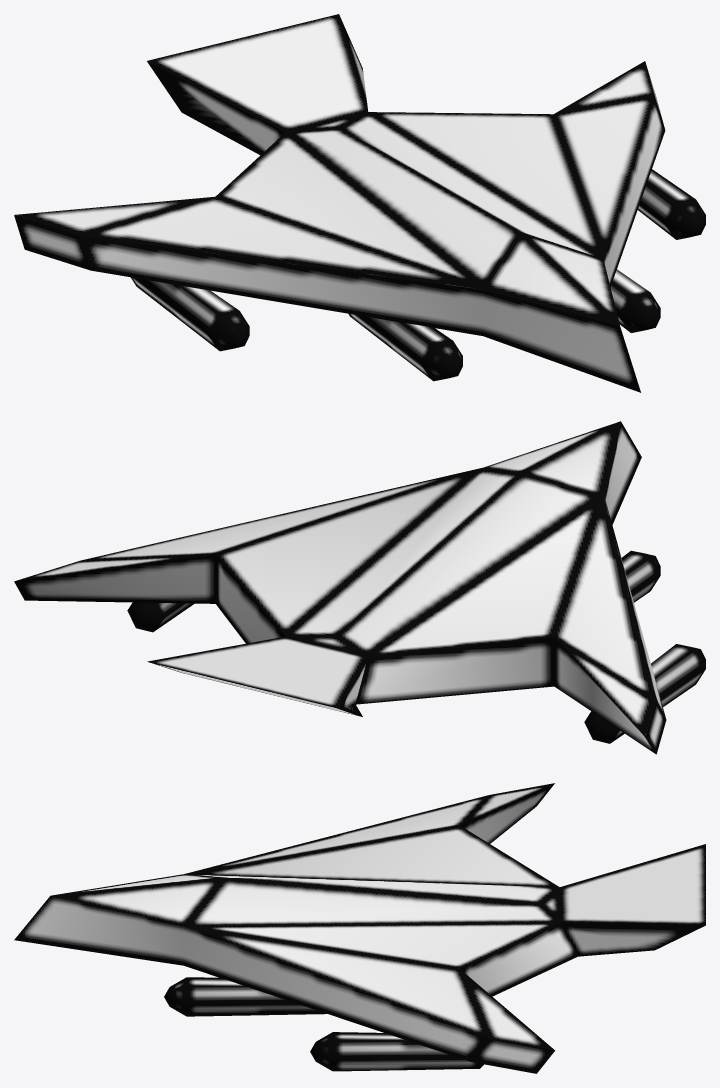
The model's file is Aircraft2.obj.
The picture shows the model from 3 angles, top to bottom: view 1: azimuth 30°, elevation 25°; view 2: azimuth 150°, elevation 25°; view 3: azimuth 270°, elevation 25°; orthographic projection. The views are drawn at different scales.
Visible parts, largest first — view 1: Box18; view 2: Box18; view 3: Box18.
Part boxes in pixels (bbox=[...]): Box18: bbox=[14, 14, 705, 392]; Box18: bbox=[14, 421, 705, 754]; Box18: bbox=[14, 783, 705, 1073].
Size of the model in its own units: 3.73 by 0.6034 by 4.08.
1 material, 1 textured.
